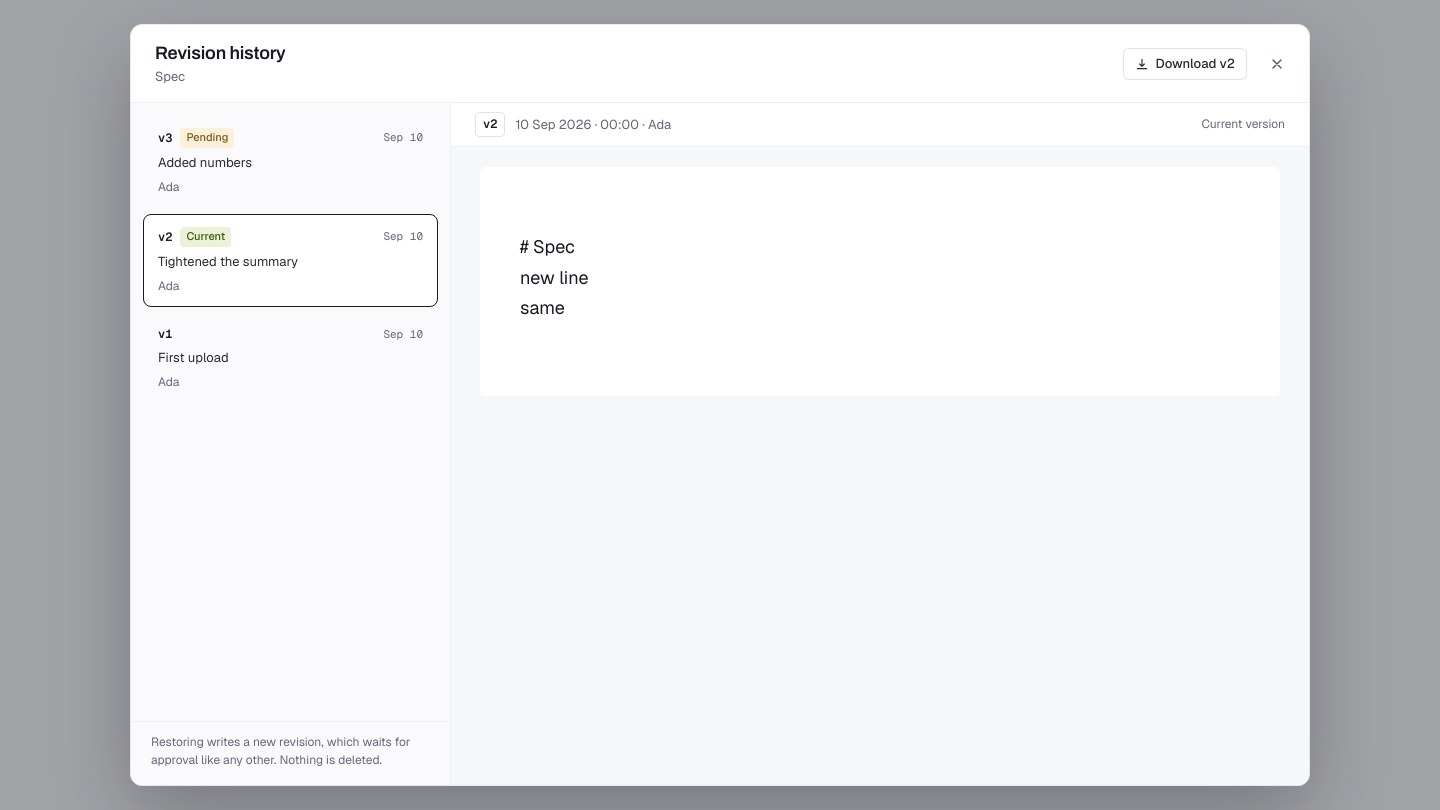
it: HistoryDialog › hands the current revision of a binary kind to the pane's own Download, and disables older ones
Click the button "Download v2": (1185, 64) [1123,48,1247,80]
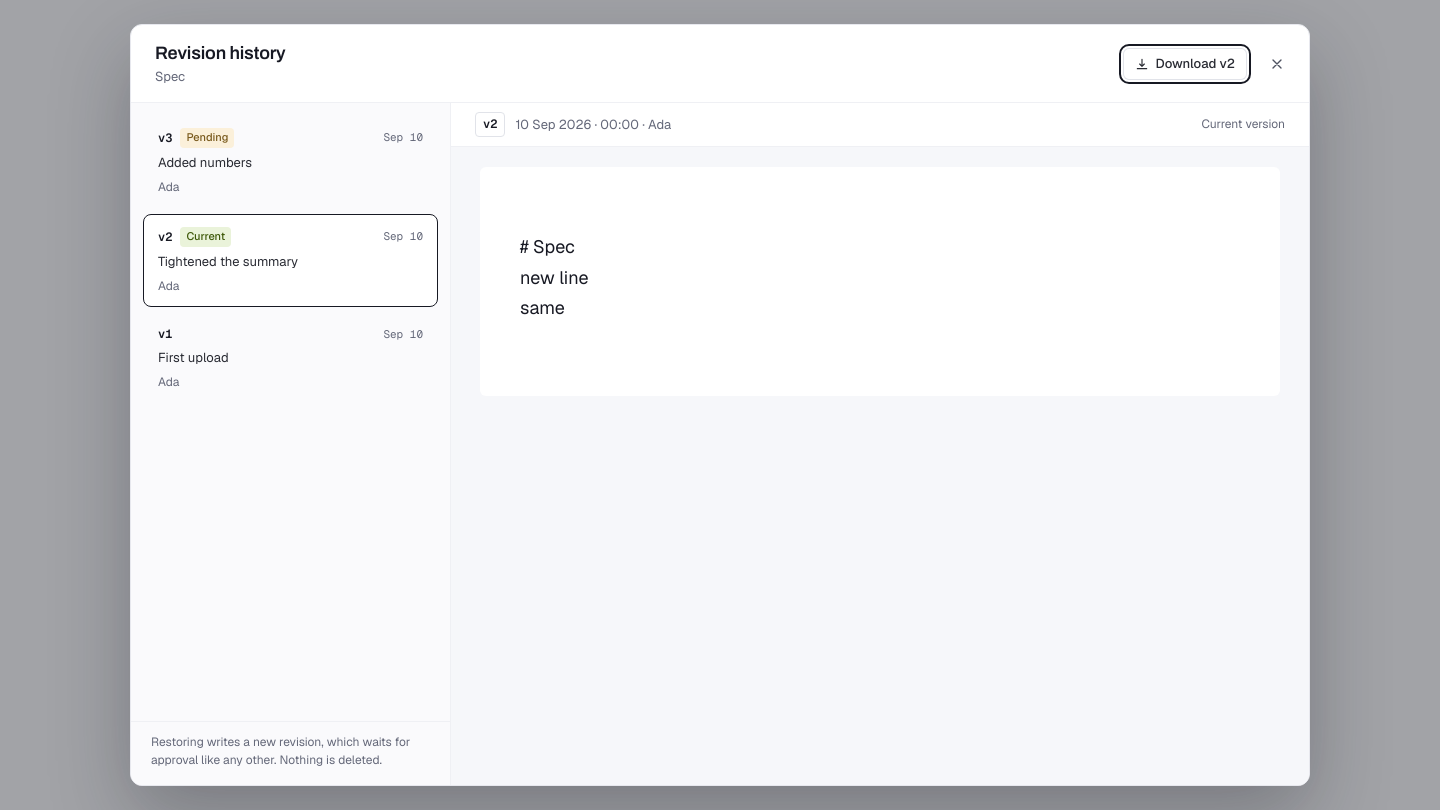
Click the button "v1 Sep 10 First upload Ada": (403, 334) [143,313,438,404]
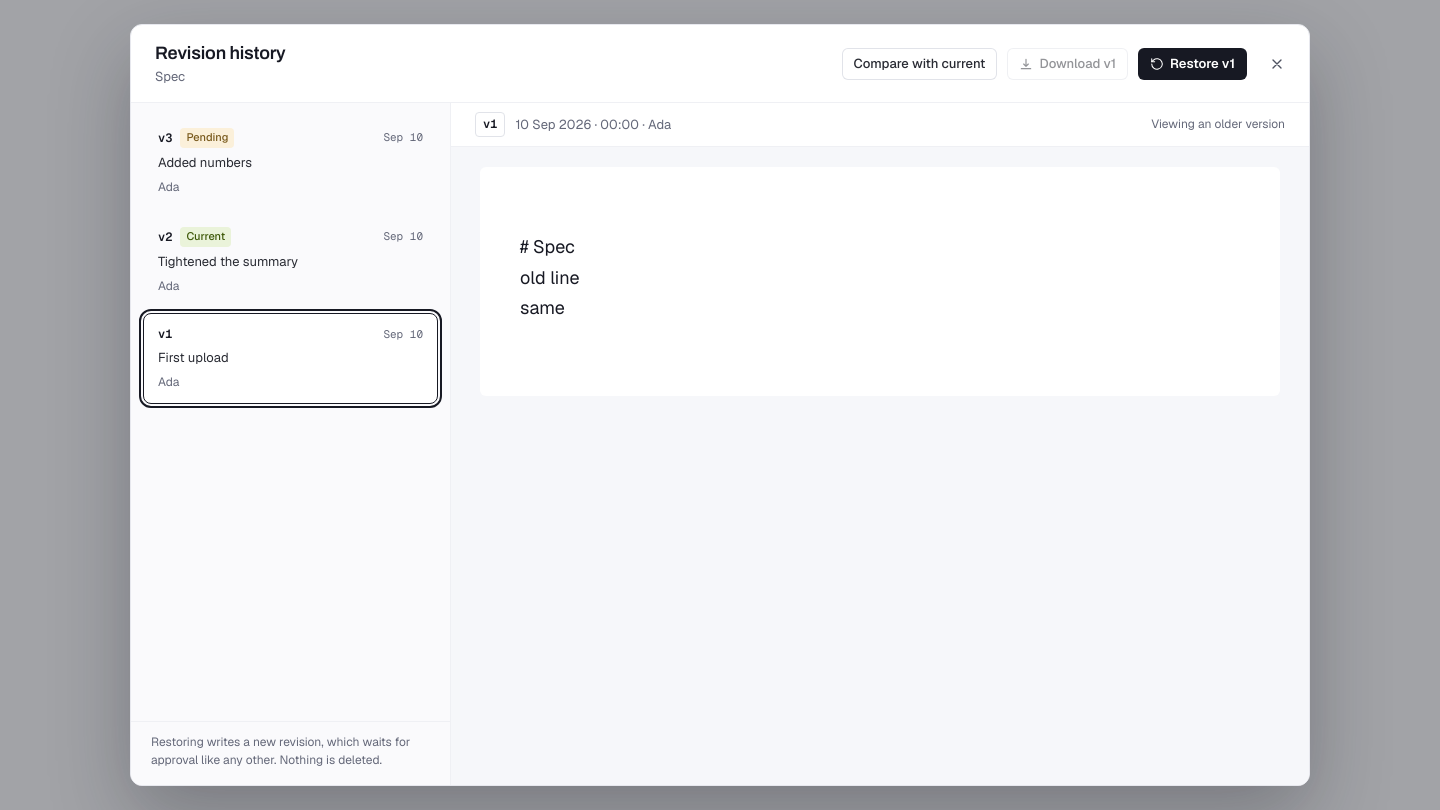
Expected: the button "Download v1" is disabled, [1007,48,1128,80]
